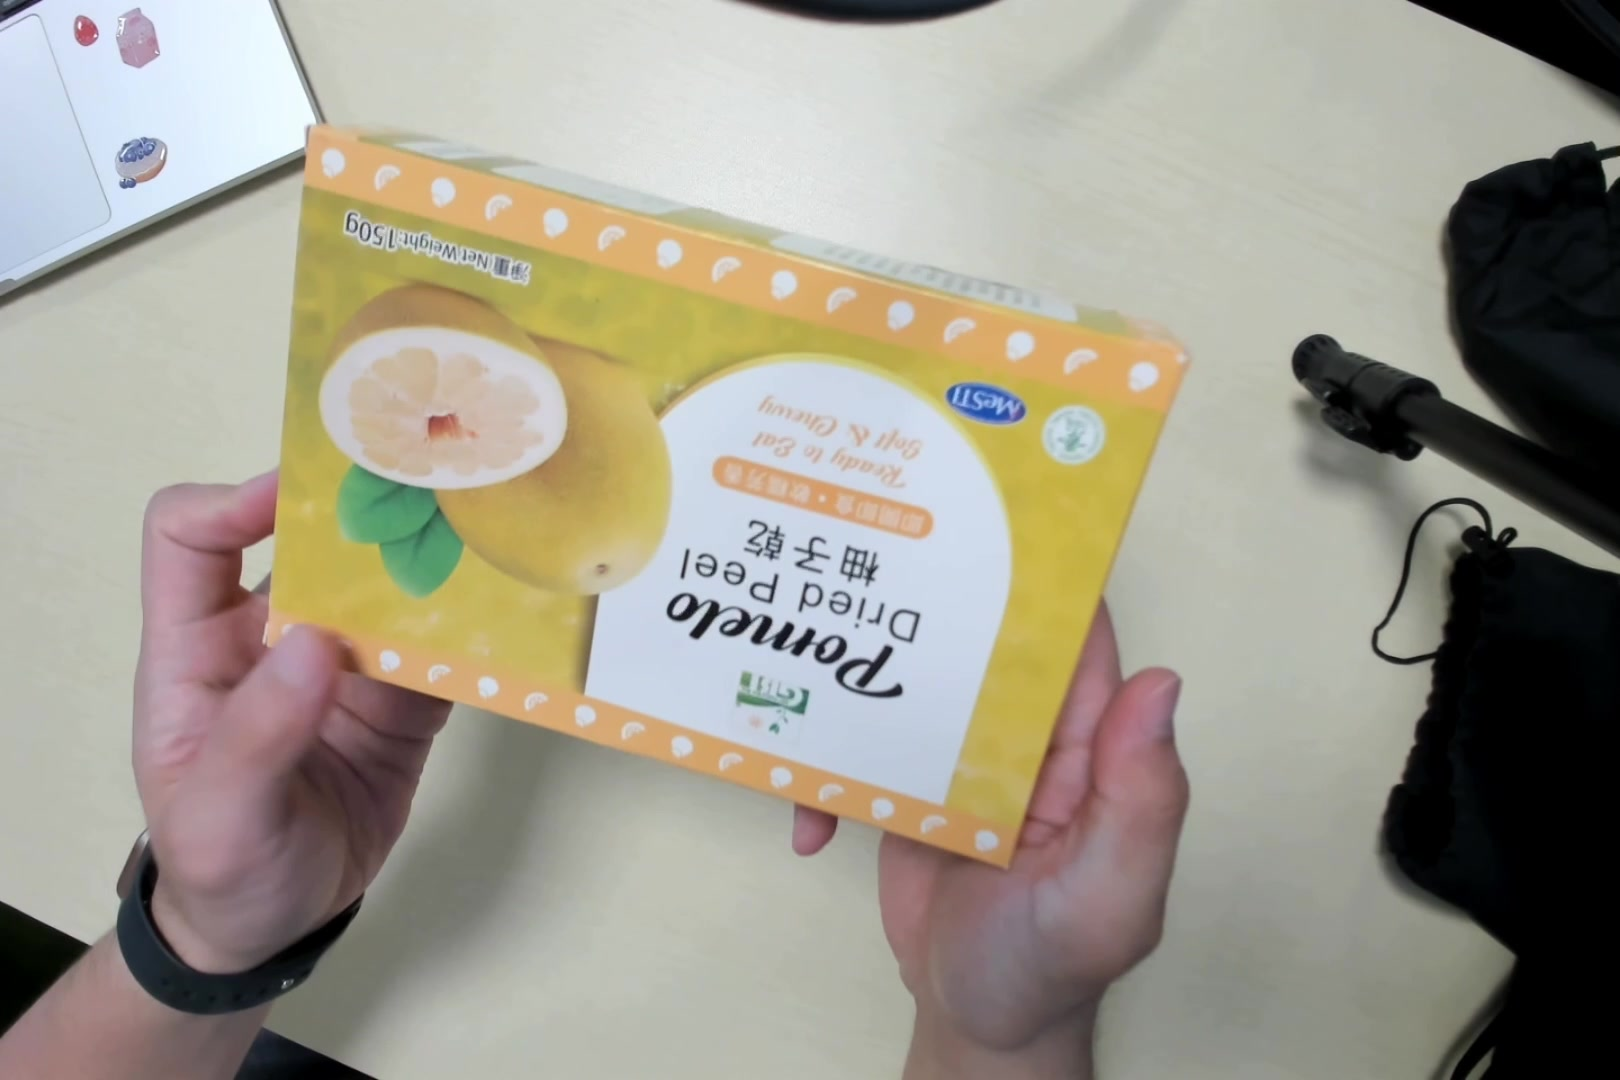DriedVegetables_100-199g_NonHalal_NonHealthy: (254, 113, 1178, 870)
